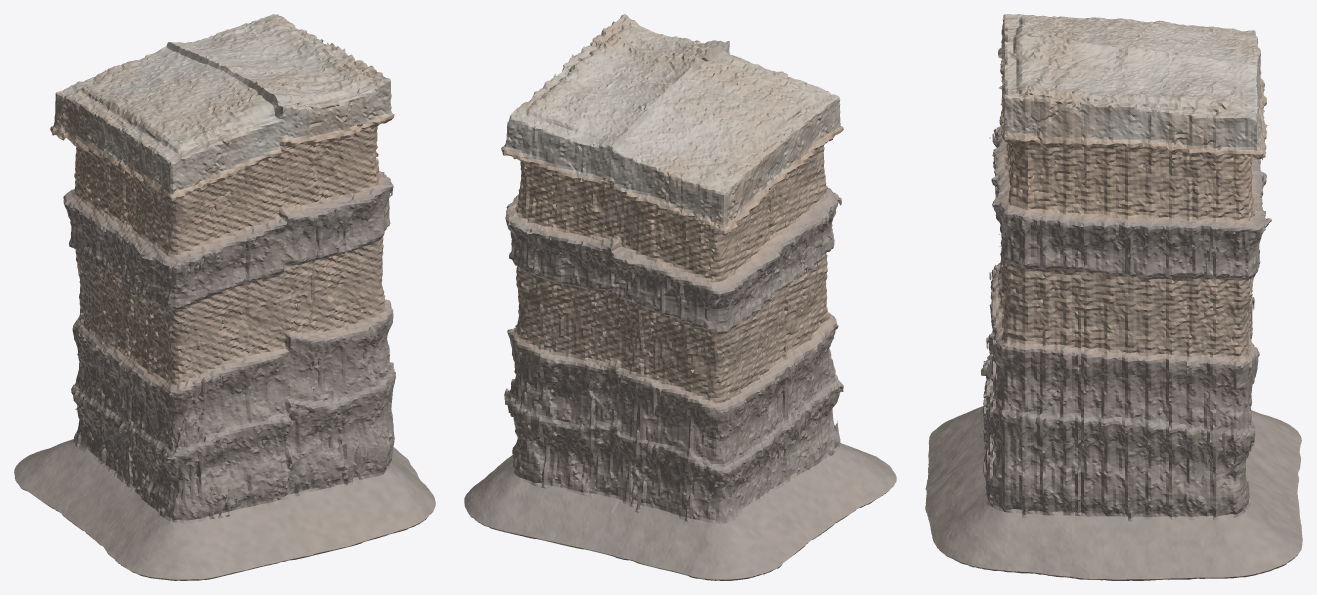
The model's file is butte_monument.glb.
3 views of the same model, side by side, from view 1: azimuth 30°, elevation 25°; view 2: azimuth 150°, elevation 25°; view 3: azimuth 270°, elevation 25° (orthographic). The views are drawn at different scales.
Parts seen in each view (by area): view 1: geometry_0; view 2: geometry_0; view 3: geometry_0.
Boxes of the visible parts, x1=… form: geometry_0: x1=14, y1=14, x2=435, y2=580; geometry_0: x1=464, y1=14, x2=896, y2=580; geometry_0: x1=925, y1=14, x2=1302, y2=580.
Size of the model in its own units: 27.73 by 34.88 by 25.9.
